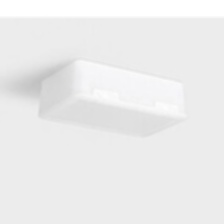plastic_box: (31, 52, 194, 145)
